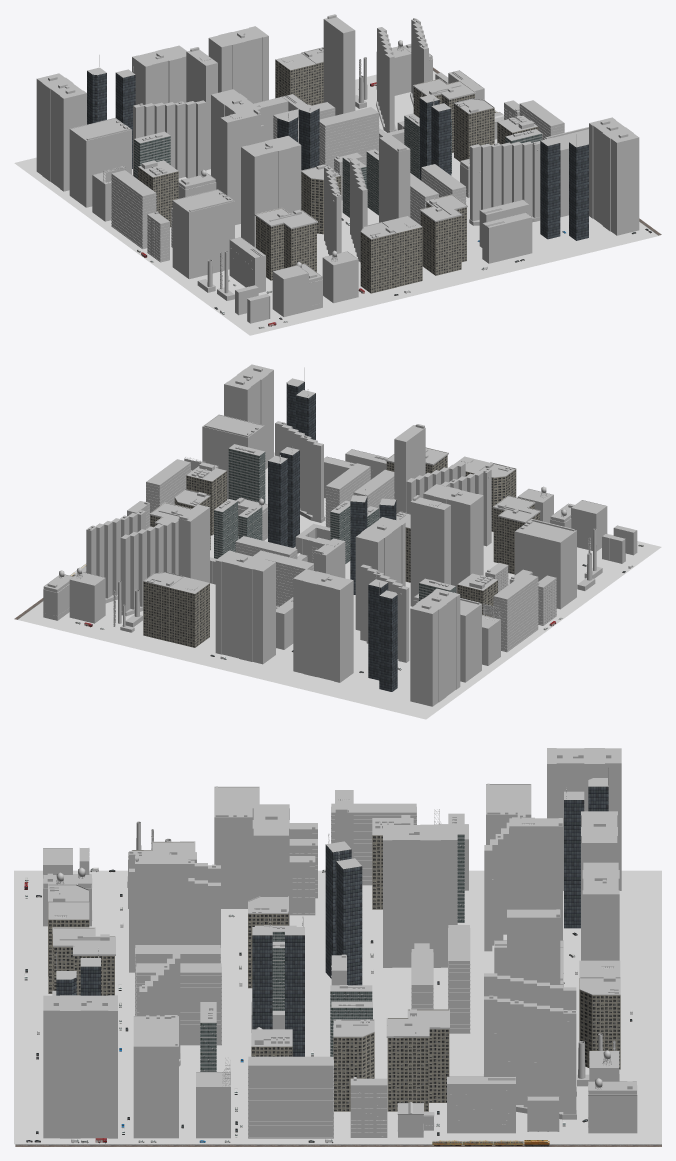
Rendered from city.fbx.
3 views of the same model, one above another, from view 1: azimuth 30°, elevation 25°; view 2: azimuth 150°, elevation 25°; view 3: azimuth 270°, elevation 25° (orthographic). The views are drawn at different scales.
Visible parts, largest first — view 1: Plane, Building2, Building2.005, Building12.002, Building3.002, Building2.003, Building12.005, Building3.001, Building2.002, building.018, building.012, Building1.001 (+49 smaller); view 2: Plane, Building2.002, Building2.004, Building2.003, Building3.002, Building12.001, Building1.002, Building2.005, Building2.001, Building2, Building12, building.007 (+44 smaller); view 3: Plane, Building2, Building2.001, Building12, Building5, building.001, Building3, Building1, Building1.003, Building3.002, Building2.003, Building10 (+49 smaller).
Boxes of the visible parts, <box> form: Plane: <box>14,71,658,335</box>; Building2: <box>589,117,639,235</box>; Building2.005: <box>241,135,301,247</box>; Building12.002: <box>470,141,540,221</box>; Building3.002: <box>172,189,234,279</box>; Building2.003: <box>36,73,86,191</box>; Building12.005: <box>133,100,206,178</box>; Building3.001: <box>69,117,131,207</box>; Building2.002: <box>208,26,268,103</box>; building.018: <box>254,208,317,280</box>; building.012: <box>419,194,467,275</box>; Building1.001: <box>323,17,355,115</box>; Plane: <box>18,452,661,719</box>; Building2.002: <box>215,550,275,664</box>; Building2.004: <box>293,569,353,682</box>; Building2.003: <box>410,588,460,706</box>; Building3.002: <box>514,521,576,609</box>; Building12.001: <box>120,518,178,611</box>; Building1.002: <box>410,497,450,606</box>; Building2.005: <box>423,484,483,593</box>; Building2.001: <box>355,517,405,630</box>; Building2: <box>224,364,273,469</box>; Building12: <box>86,510,145,598</box>; building.007: <box>169,576,209,647</box>; Plane: <box>14,870,661,1144</box>; Building2: <box>43,995,117,1138</box>; Building2.001: <box>383,824,457,967</box>; Building12: <box>484,996,576,1114</box>; Building5: <box>248,1056,333,1138</box>; building.001: <box>386,1009,449,1111</box>; Building3: <box>133,1016,178,1138</box>; Building1: <box>509,818,562,940</box>; Building1.003: <box>135,856,188,947</box>; Building3.002: <box>214,786,259,908</box>; Building2.003: <box>547,748,621,890</box>; Building10: <box>447,1076,515,1133</box>.
Bounding box in the file's own units: 40355 × 10379 × 40001.
